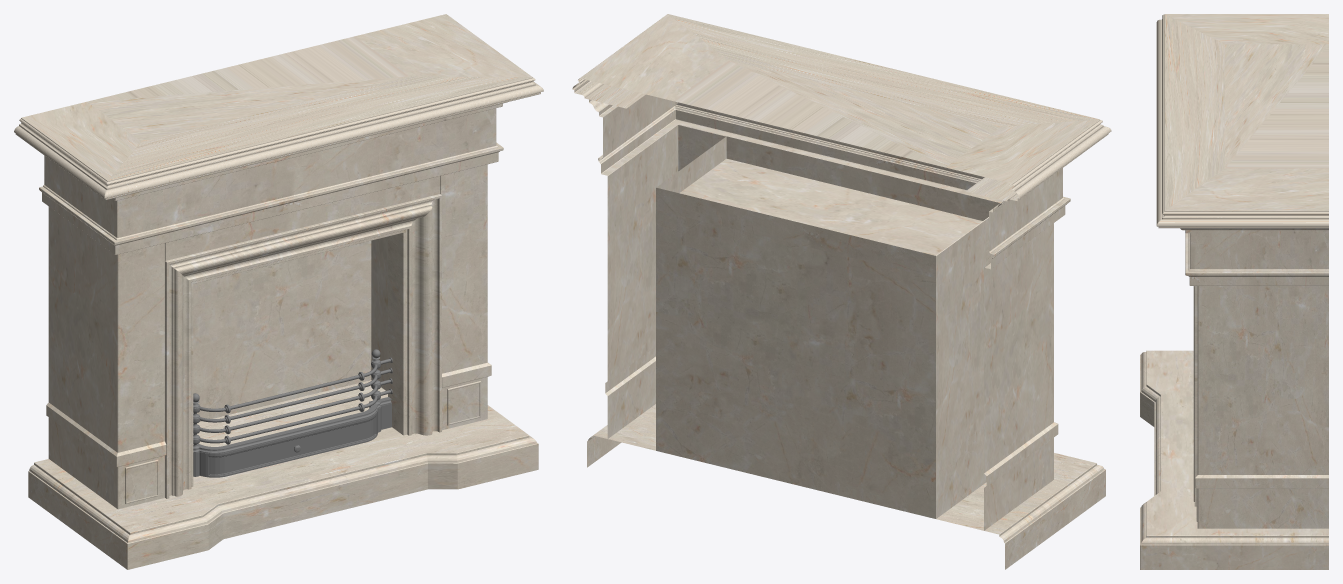
The model's file is fireplace1.glb.
3 renders of one model, left to right at view 1: azimuth 30°, elevation 25°; view 2: azimuth 150°, elevation 25°; view 3: azimuth 270°, elevation 25°, orthographic. The views are drawn at different scales.
Parts seen in each view (by area): view 1: fireplace1; view 2: fireplace1; view 3: fireplace1.
Boxes of the visible parts, left/top/right/bottom form: fireplace1: left=14, top=14, right=543, bottom=569; fireplace1: left=572, top=14, right=1111, bottom=569; fireplace1: left=1140, top=14, right=1328, bottom=569.
Bounding box in the file's own units: 1678 × 1391 × 657.
Materials: 2 (2 with a texture image).
